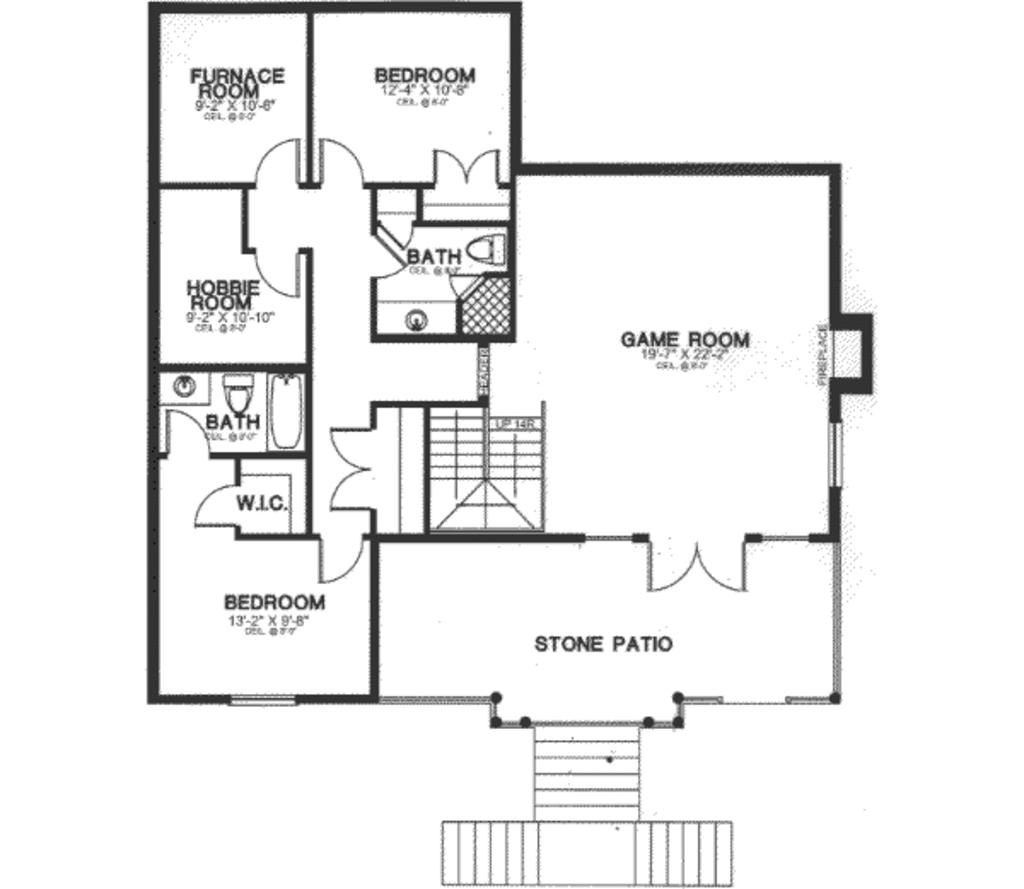door: (640, 540, 746, 600), (328, 427, 382, 511), (312, 132, 373, 185), (245, 133, 304, 186), (309, 532, 367, 585), (424, 150, 499, 189), (190, 479, 236, 532), (254, 252, 304, 300), (165, 408, 209, 458), (380, 213, 431, 256), (366, 235, 404, 278)
large_sink: (211, 366, 261, 425), (454, 227, 513, 274)
small_sink: (378, 297, 466, 335), (154, 370, 216, 408)
stairs: (440, 708, 763, 889), (428, 405, 555, 532)
tub: (269, 378, 305, 448)
window: (224, 686, 304, 712), (824, 417, 851, 490)
